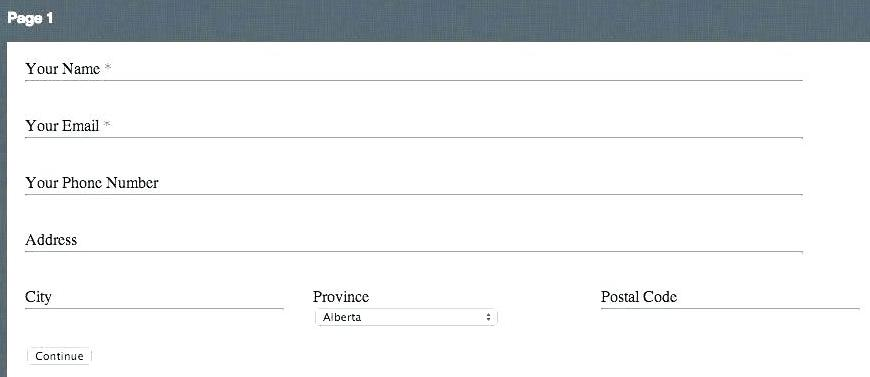button: (24, 344, 93, 366)
field: (313, 305, 500, 330)
field_line: (22, 53, 805, 85), (22, 226, 805, 255), (23, 170, 805, 197), (21, 116, 805, 142), (20, 286, 288, 311), (599, 286, 862, 311)
field_with_label: (310, 288, 503, 333)
